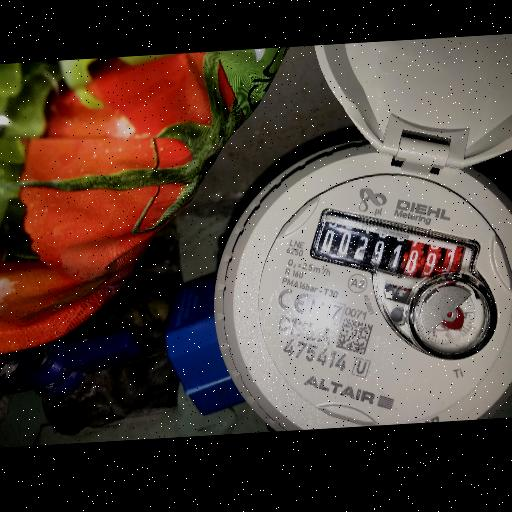0: (330, 223, 358, 262), (318, 221, 341, 258)
1: (434, 241, 464, 280), (382, 235, 409, 274)
2: (348, 227, 375, 266)
8: (399, 239, 426, 278)
9: (416, 241, 443, 282), (364, 231, 392, 270)
border_water_meter_number: (313, 204, 493, 302)
